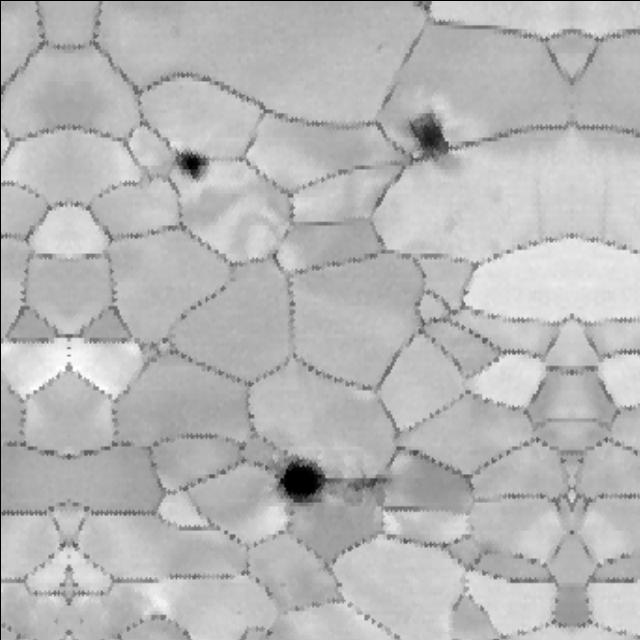good_void: (267, 440, 342, 520), (396, 99, 460, 172), (339, 454, 397, 512), (168, 139, 213, 202)
